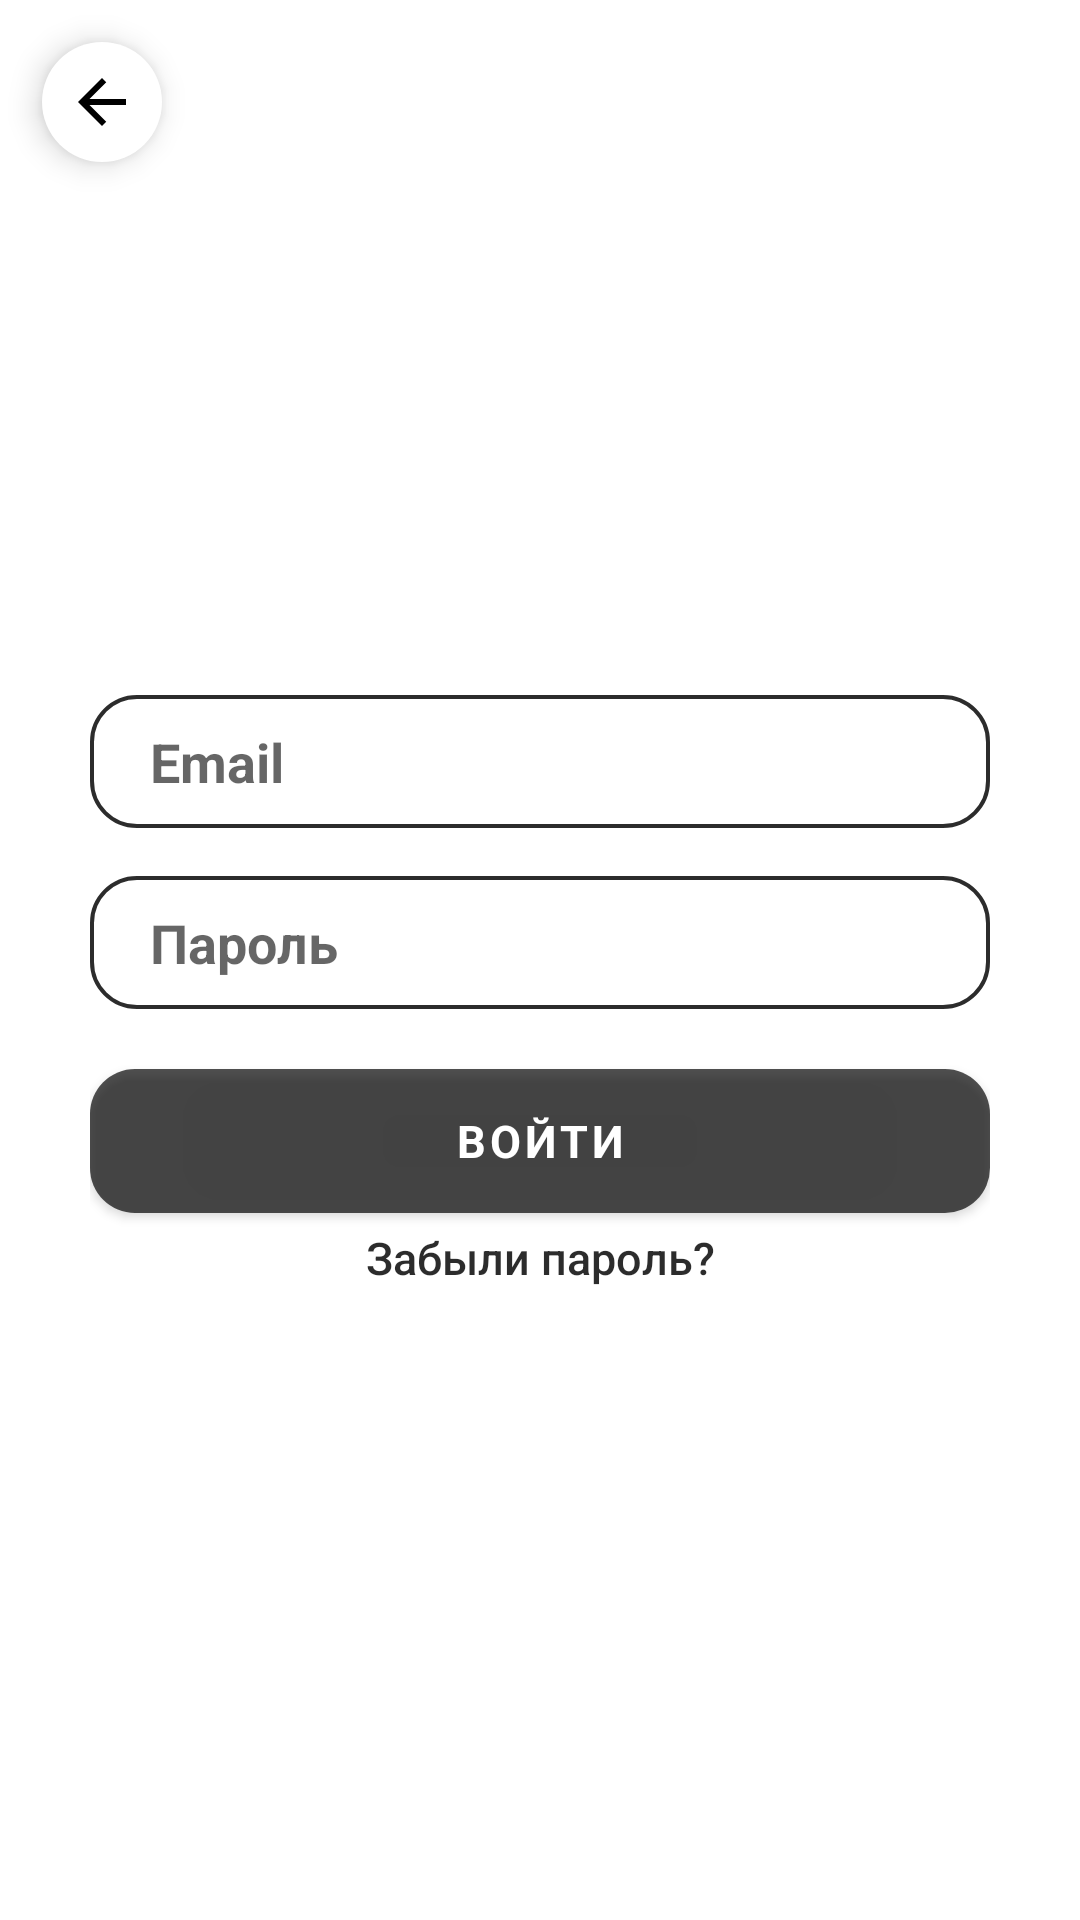

Icons on this 1080w x 1920h Android screen, each with the point to tap as point (x, y):
back: point (83, 106)
